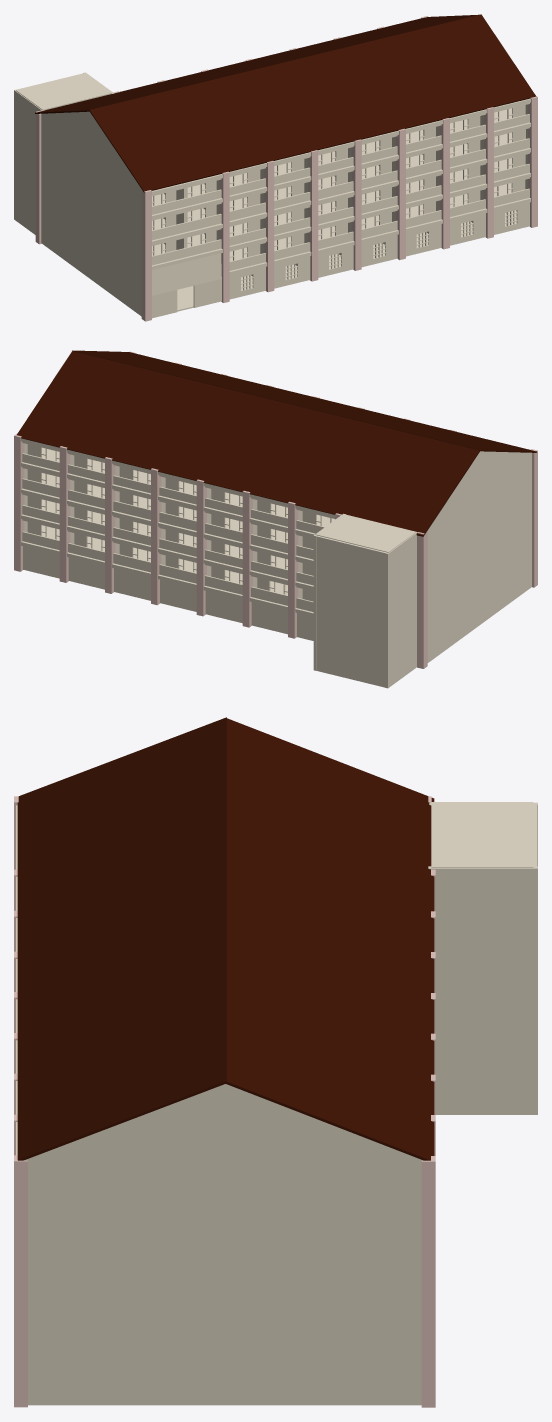
The model's file is house11.fbx.
The picture shows the model from 3 angles, top to bottom: view 1: azimuth 30°, elevation 25°; view 2: azimuth 150°, elevation 25°; view 3: azimuth 270°, elevation 25°; orthographic projection. The views are drawn at different scales.
Parts seen in each view (by area): view 1: 立方体.1832; view 2: 立方体.1832; view 3: 立方体.1832.
Boxes of the visible parts, x1,y1,x2,y2 form: 立方体.1832: [14, 14, 537, 321]; 立方体.1832: [14, 350, 537, 688]; 立方体.1832: [14, 717, 537, 1407].
Size of the model in its own units: 65499 by 27451 by 39787.
